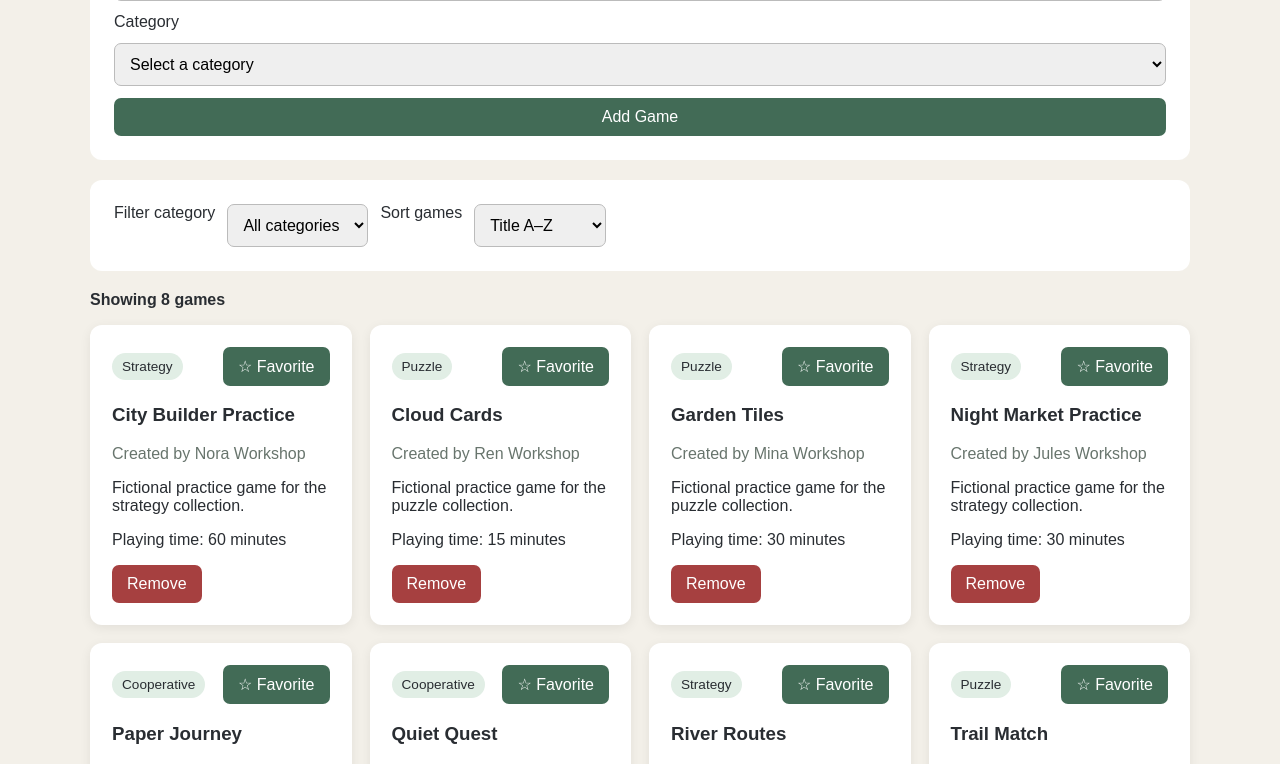
Test: toggles a game's favorite status
(page scrolled)
Click the 1st button "☆ Favorite" at (276, 366), box 223,347 -> 330,386
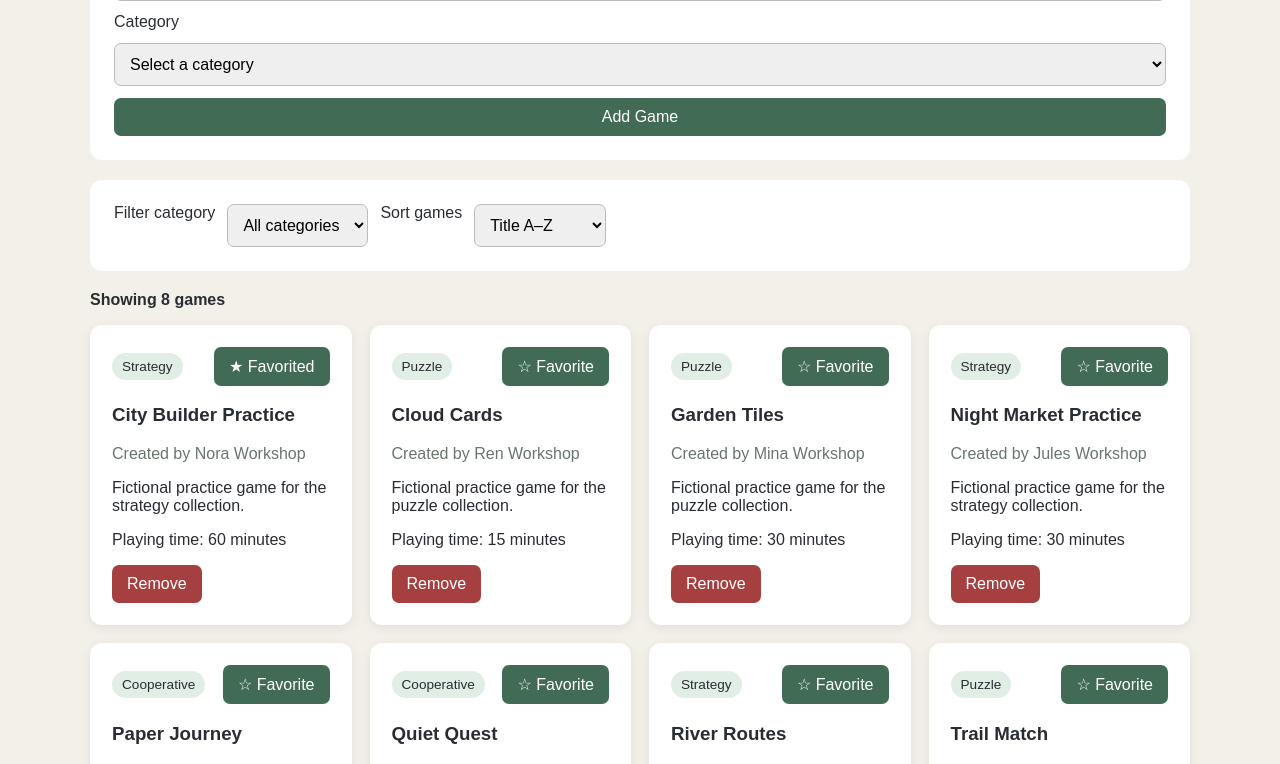
Result: the button "★ Favorited" is shown at 214,347 -> 330,386
